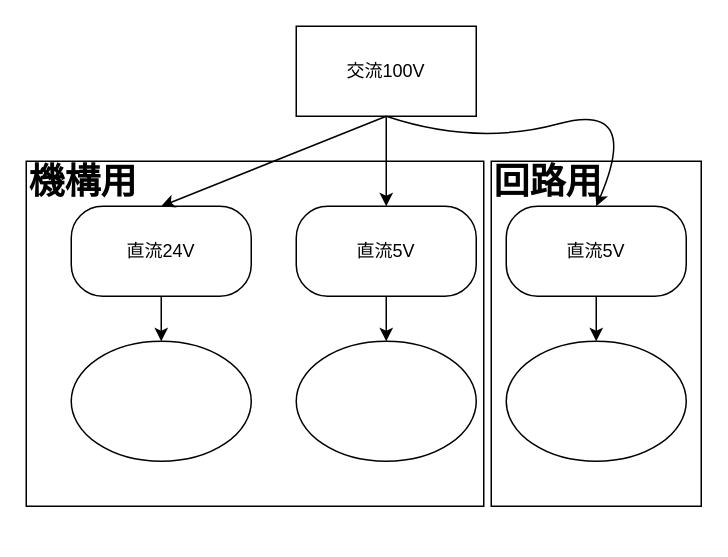
Image size: 728x557. Some labels were removed from this diagram. Each missing label, with the centre of its shape:
"サーボモーター" goes at (x=385, y=400).
"ブラシレスモーター" goes at (x=160, y=400).
"回路電源" goes at (x=595, y=400).
